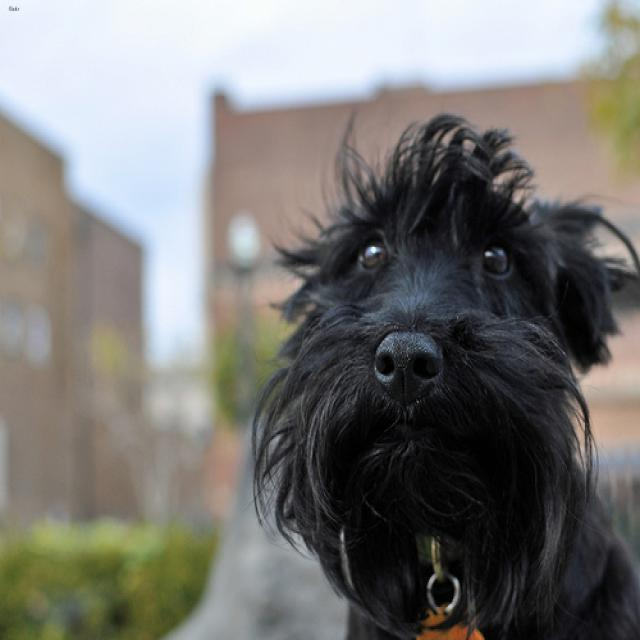dog-scottish_terrier: (238, 102, 637, 637)
